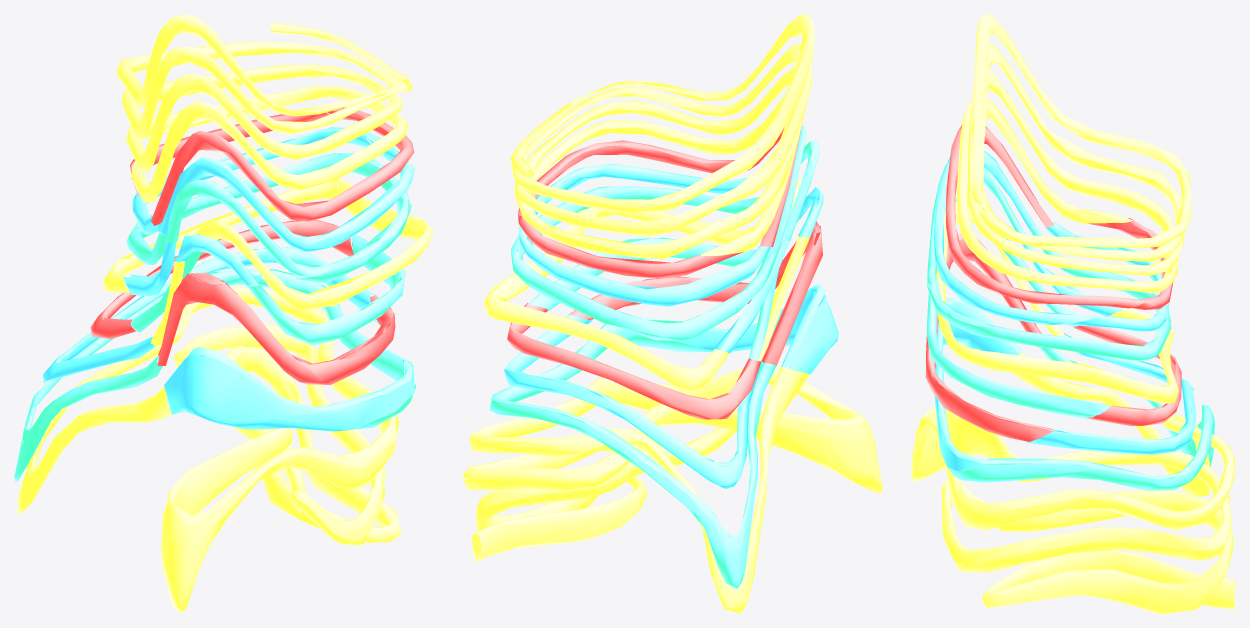
File: dfw-emy.glb
3 renders of one model, left to right at view 1: azimuth 30°, elevation 25°; view 2: azimuth 150°, elevation 25°; view 3: azimuth 270°, elevation 25°, orthographic. The views are drawn at different scales.
Visible parts, largest first — view 1: Object_3.001_LOD1.002; view 2: Object_3.001_LOD1.002; view 3: Object_3.001_LOD1.002.
Boxes of the visible parts, x1=… form: Object_3.001_LOD1.002: x1=14, y1=14, x2=433, y2=613; Object_3.001_LOD1.002: x1=462, y1=14, x2=882, y2=613; Object_3.001_LOD1.002: x1=911, y1=14, x2=1235, y2=613.
Size of the model in its own units: 4.54 by 8.12 by 4.73.
